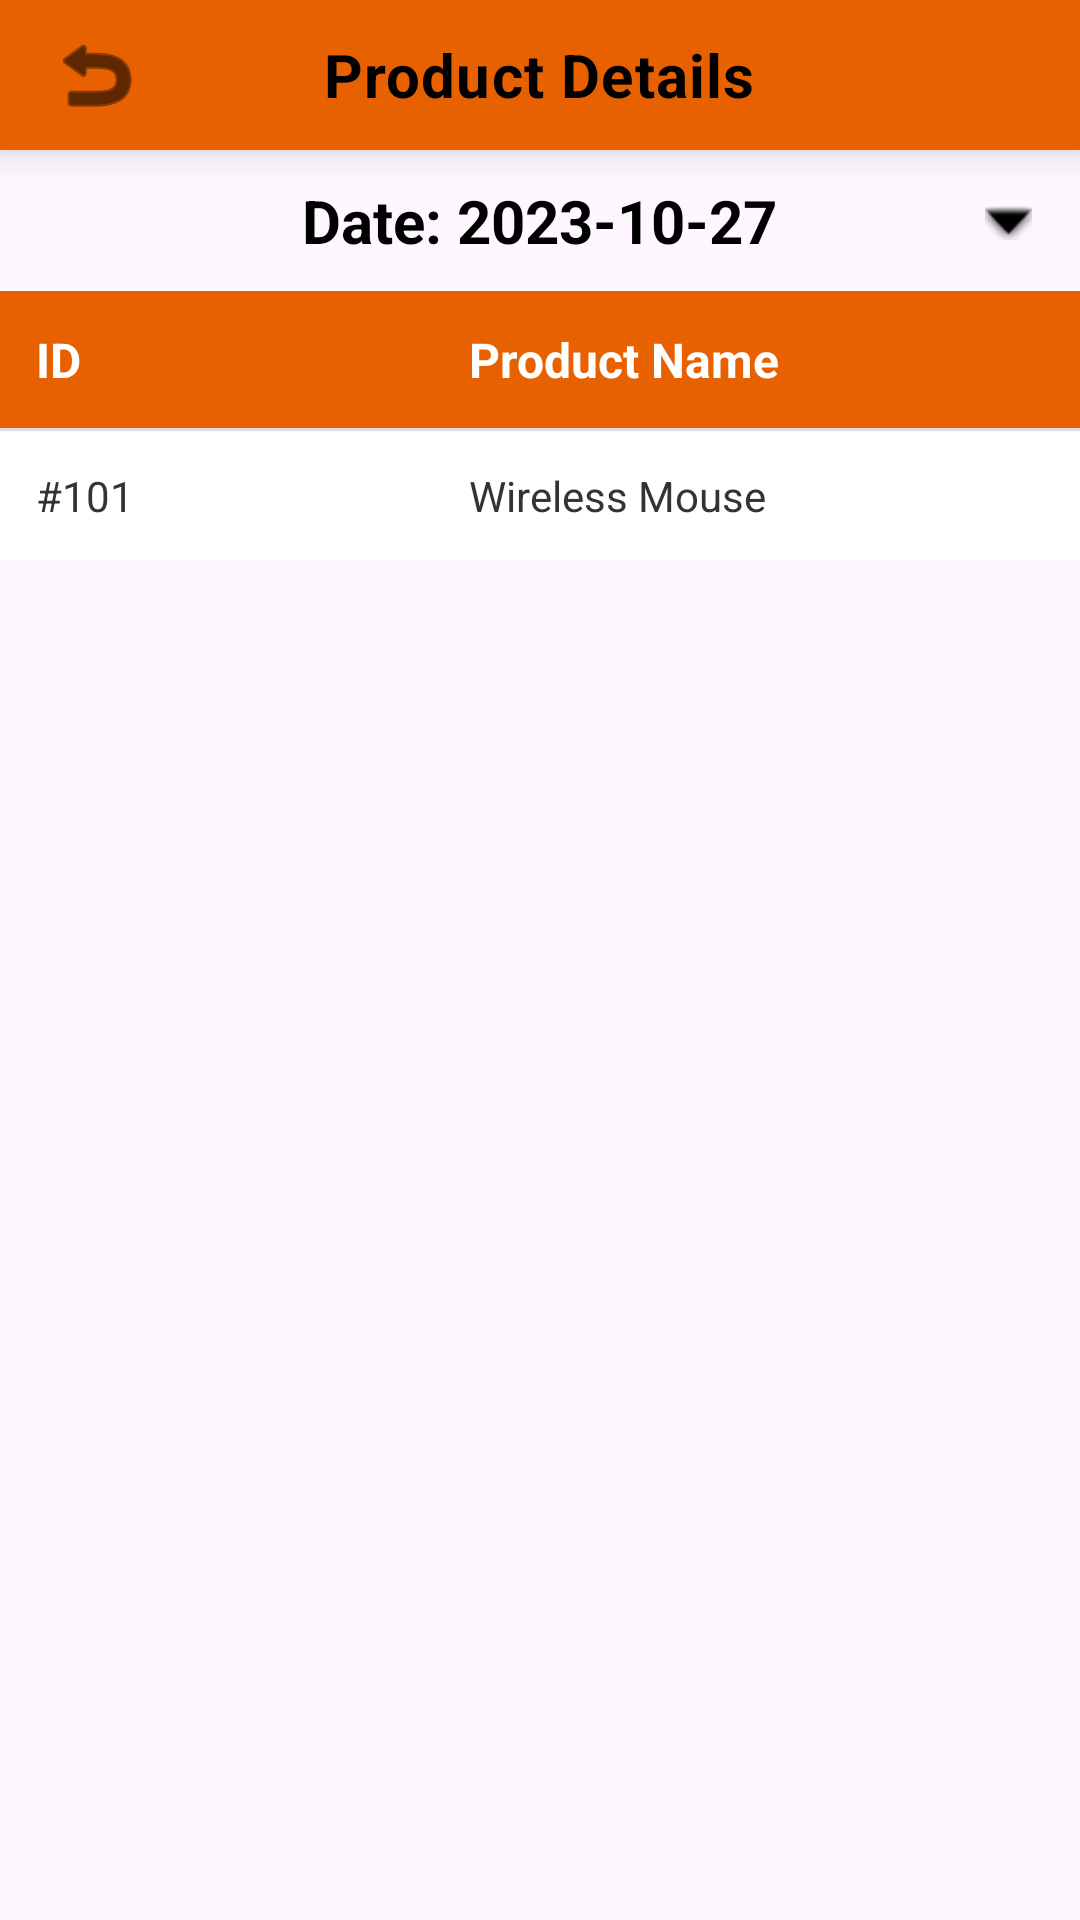

Icons on this 1080 × 1920 Android screen, each with its box as bbox(x1, y1, x2, y2):
arrow down float: bbox(936, 150, 1080, 291)
Back: bbox(63, 44, 132, 107)
